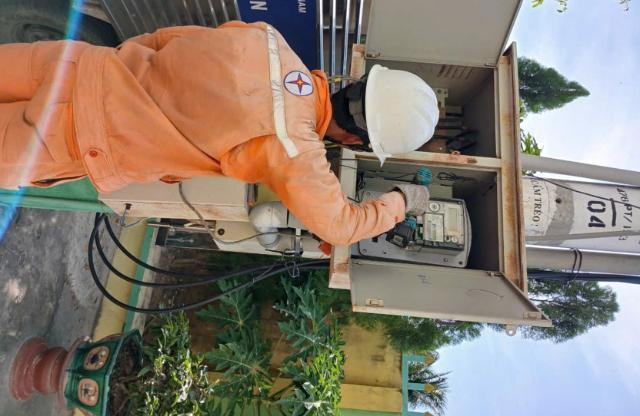gloves: (394, 179, 437, 230)
helmet: (360, 50, 442, 161)
